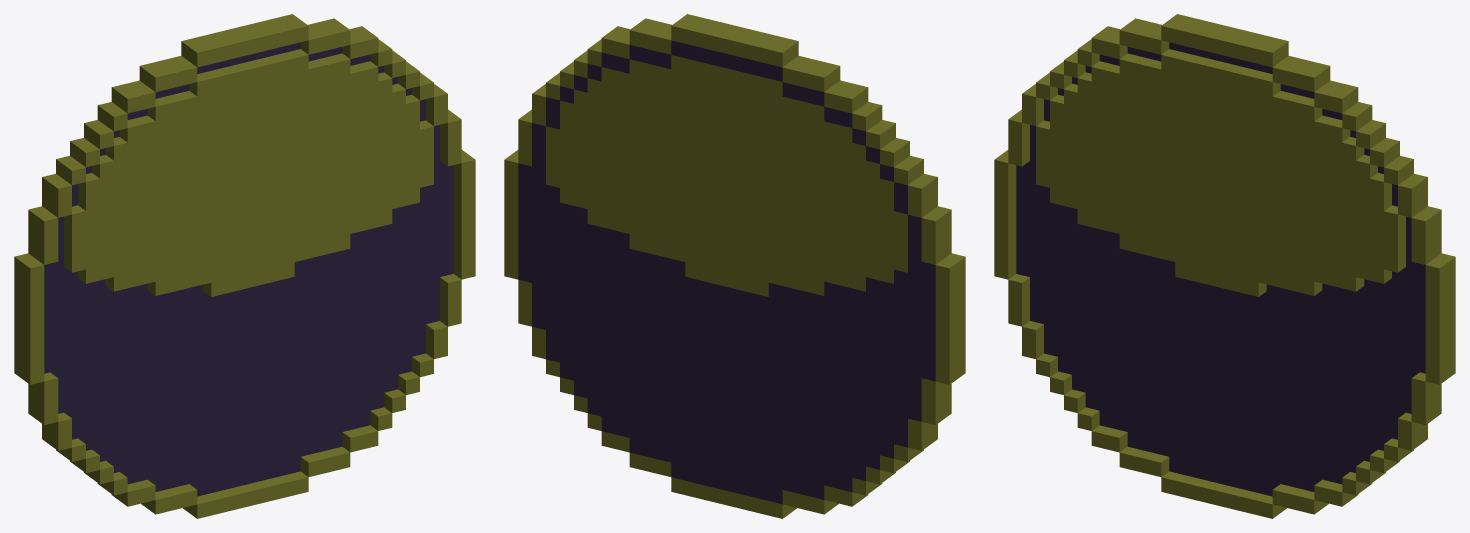
File: ArcanistSymbol.obj
The picture shows the model from 3 angles, left to right: view 1: azimuth 30°, elevation 25°; view 2: azimuth 150°, elevation 25°; view 3: azimuth 330°, elevation 25°; orthographic projection.
Parts seen in each view (by area): view 1: ArcanistSymbol; view 2: ArcanistSymbol; view 3: ArcanistSymbol.
Boxes of the visible parts, left/top/right/bottom form: ArcanistSymbol: left=14, top=14, right=475, bottom=518; ArcanistSymbol: left=504, top=14, right=965, bottom=518; ArcanistSymbol: left=994, top=14, right=1455, bottom=518.
Bounding box in the file's own units: 32 × 32 × 2.
Materials: 1 (1 with a texture image).
